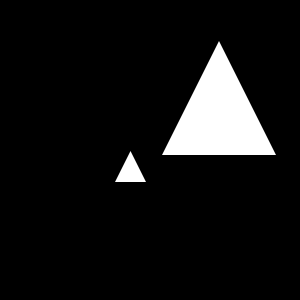triangle: (162, 41, 276, 155), (115, 151, 146, 182)
